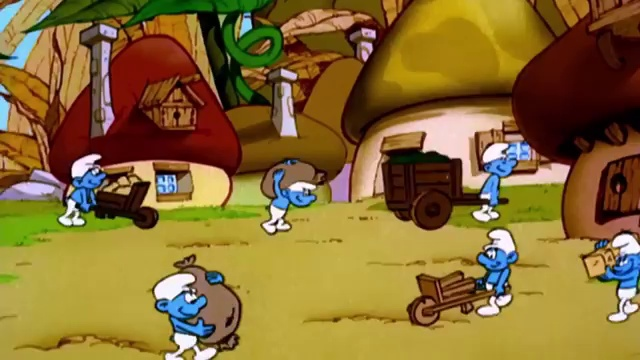smurf: (151, 270, 216, 360), (593, 234, 639, 325), (475, 228, 519, 320), (55, 151, 103, 228), (470, 141, 514, 225), (259, 180, 316, 236)
